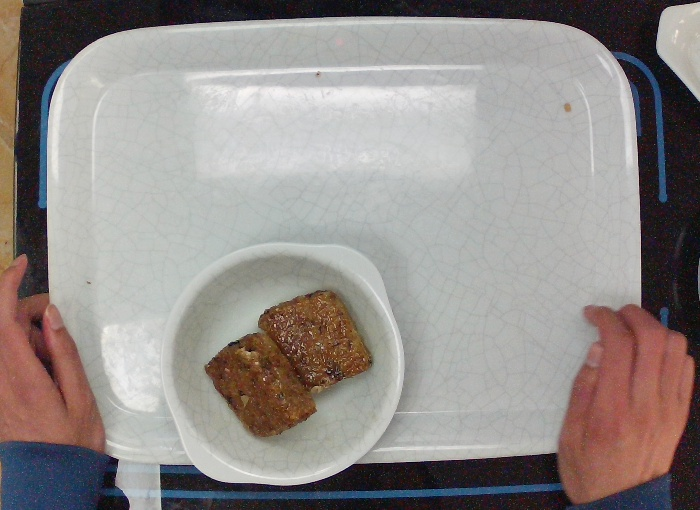JYsf-Shuang_Er_Wan: (157, 239, 409, 488)
